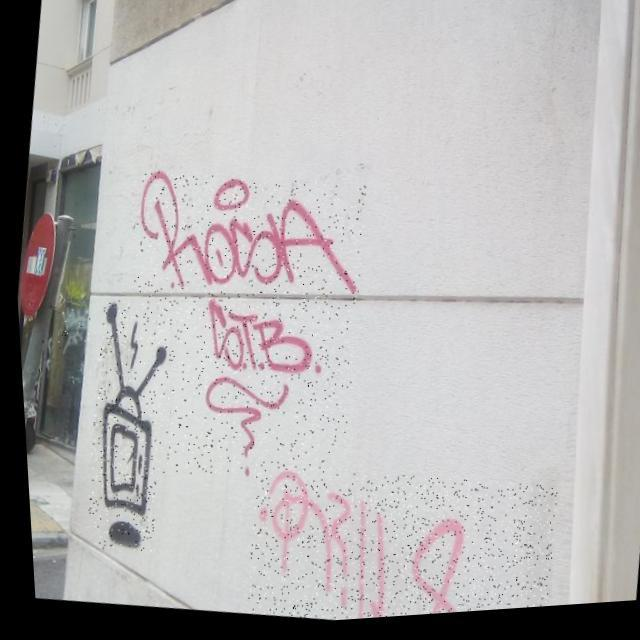-: (98, 160, 378, 502), (232, 452, 556, 629), (65, 298, 179, 558), (51, 306, 91, 358)
